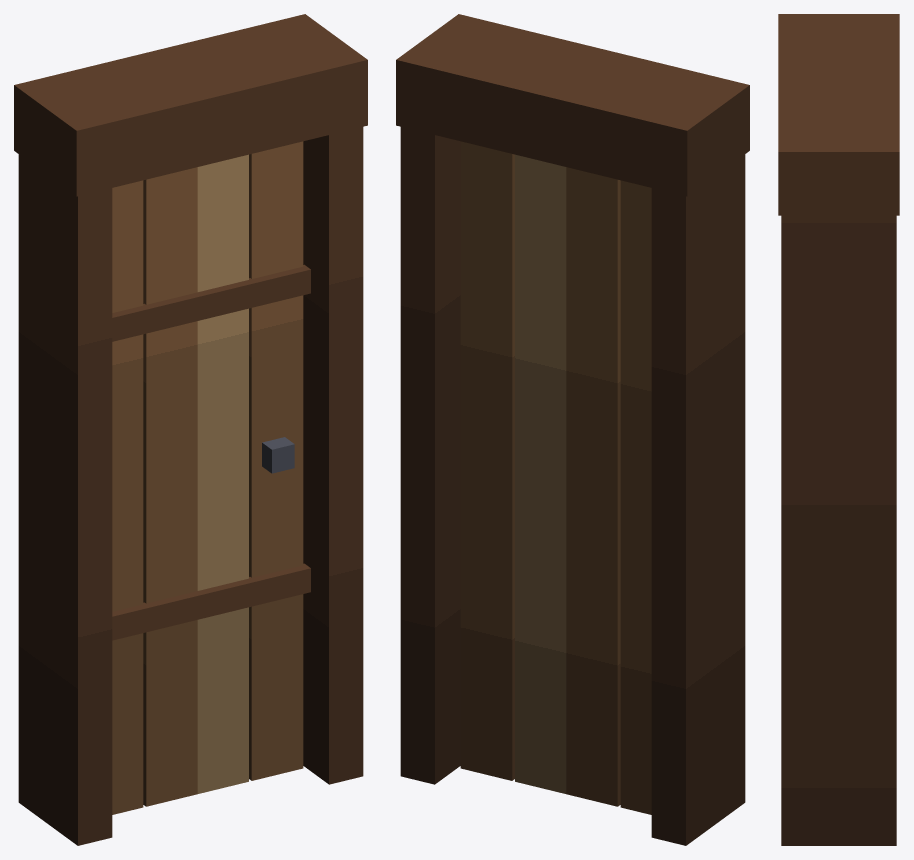
Rendered from door_wood.glb.
3 renders of one model, left to right at view 1: azimuth 30°, elevation 25°; view 2: azimuth 150°, elevation 25°; view 3: azimuth 270°, elevation 25°, orthographic. The views are drawn at different scales.
Bounding box in the file's own units: 1.02 × 2.4 × 0.38.
Materials: 1 (1 with a texture image).
